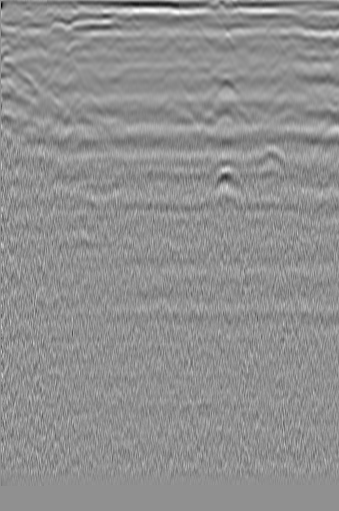가스: (207, 155, 243, 196)
상수: (43, 12, 74, 45)
오수: (298, 49, 330, 78)
우수: (146, 27, 181, 57)
